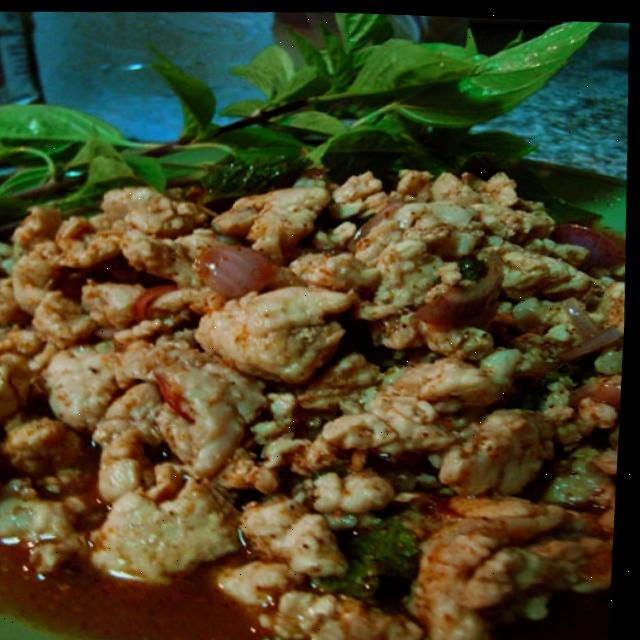鸡肉料理 含炸鸡: (0, 22, 638, 640)
